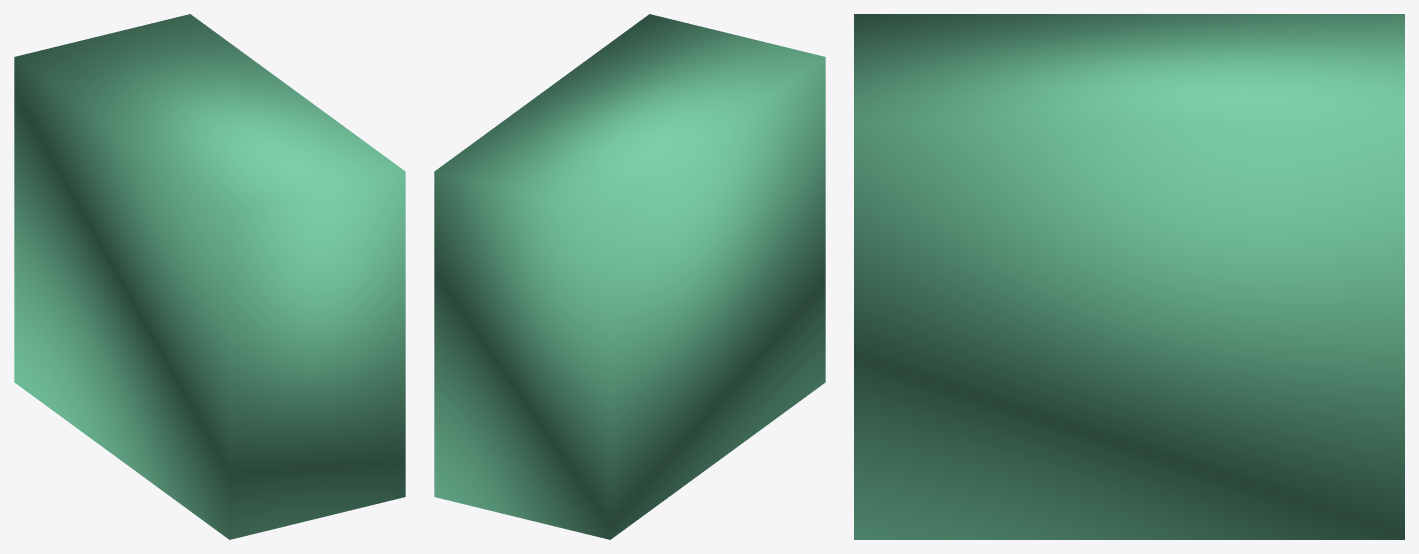
File: fire_flames.glb
3 views of the same model, side by side, from view 1: azimuth 30°, elevation 25°; view 2: azimuth 150°, elevation 25°; view 3: azimuth 270°, elevation 25° (orthographic). The views are drawn at different scales.
Parts seen in each view (by area): view 1: Flame volume; view 2: Flame volume; view 3: Flame volume.
Boxes of the visible parts, x1,y1,x2,y2 form: Flame volume: [14, 14, 405, 539]; Flame volume: [434, 14, 825, 539]; Flame volume: [854, 14, 1404, 539].
Size of the model in its own units: 0.34 by 0.6 by 0.72.
